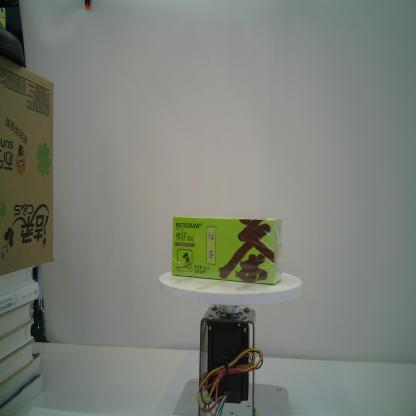Instant Drink: (171, 215, 284, 285)
